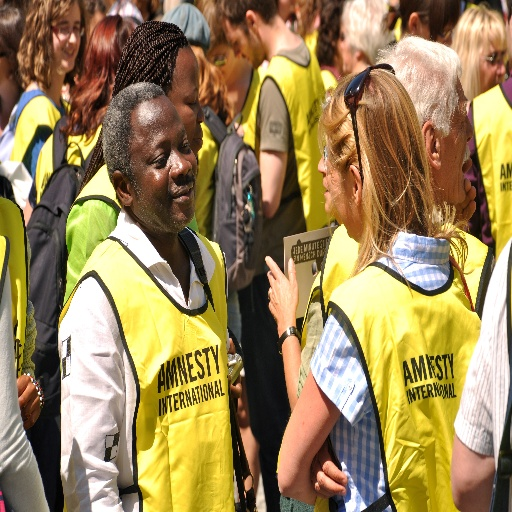hand: (267, 262, 304, 344), (449, 156, 477, 232), (309, 445, 348, 499), (15, 372, 41, 435), (228, 336, 242, 404)
